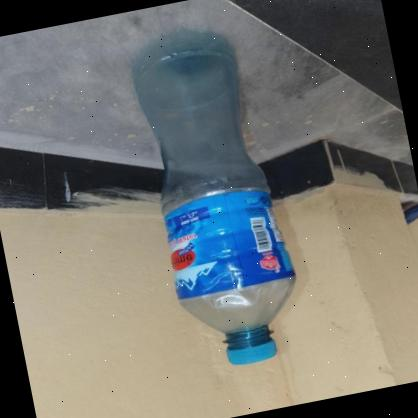bottle: (118, 18, 318, 380)
cap: (215, 326, 291, 372)
label: (157, 173, 290, 307)
